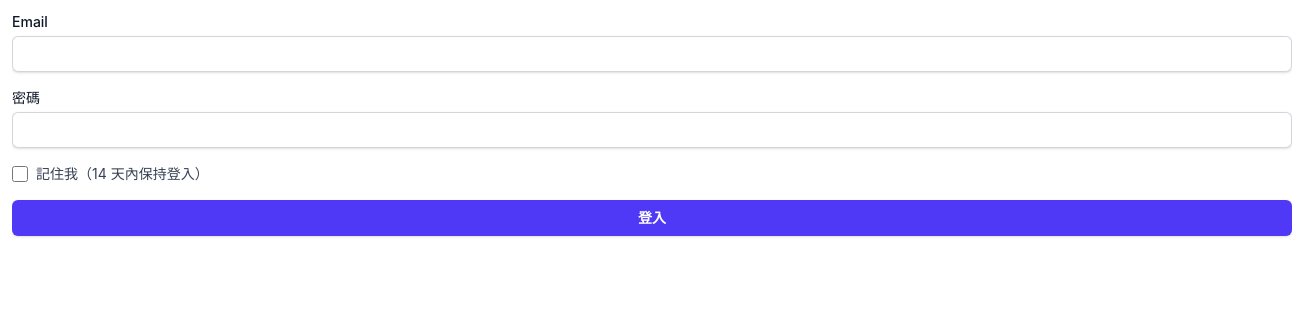
Test: LoginForm › renders 429 lockout message
Type "brute@example.com" into the field labelled "Email" at (652, 54), box [12,36,1292,72]
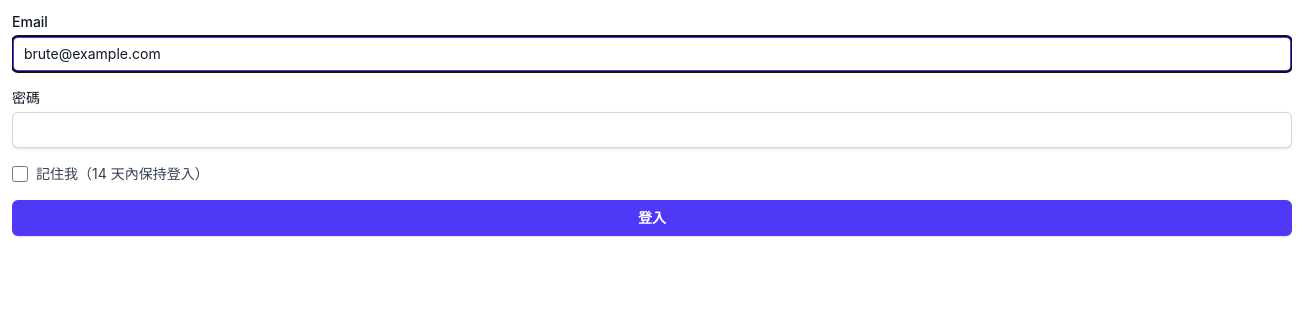
Type "WrongPass1" into the password field labelled "密碼" at (652, 130), box [12,112,1292,148]
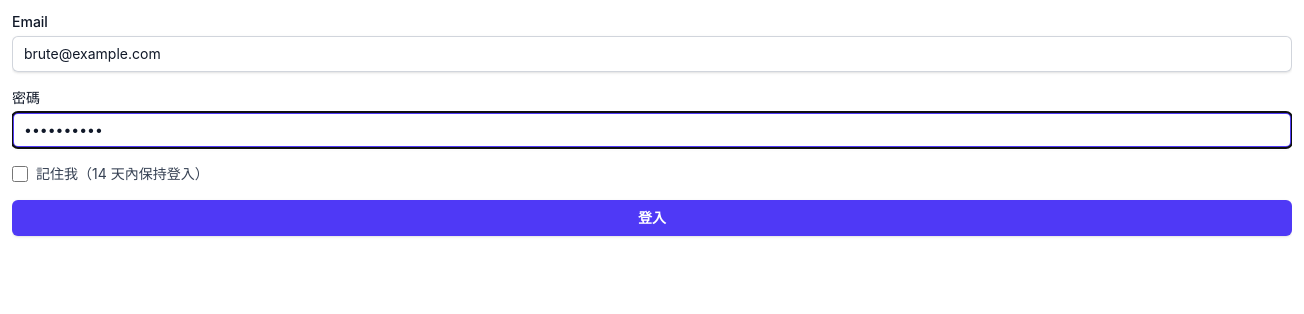
Click the button "登入" at (652, 218), box [12,200,1292,236]
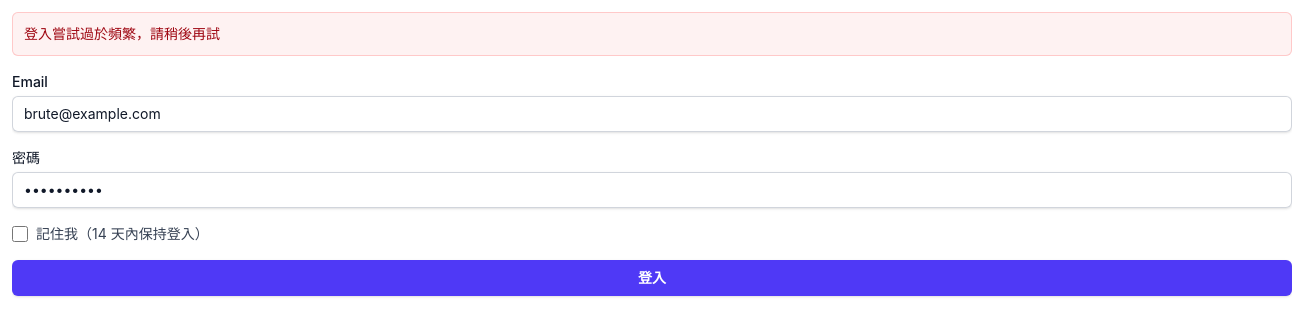
Now the text "登入嘗試過於頻繁，請稍後再試" is shown, box [12,12,1292,56]
